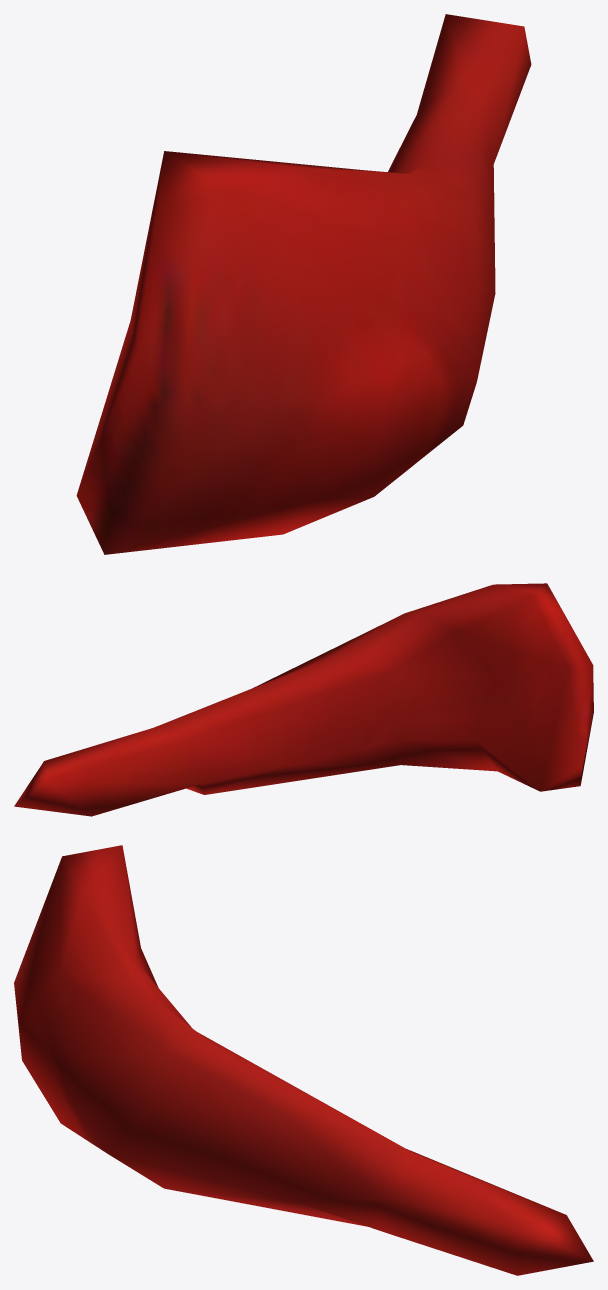
Rendered from Orbital_Muscle_05.glb.
3 views of the same model, one above another, from view 1: azimuth 30°, elevation 25°; view 2: azimuth 150°, elevation 25°; view 3: azimuth 270°, elevation 25° (orthographic). The views are drawn at different scales.
Visible parts, largest first — view 1: Orbital_Muscle_05; view 2: Orbital_Muscle_05; view 3: Orbital_Muscle_05.
Part boxes in pixels (x1,y1,x2,y2): Orbital_Muscle_05: (76, 14, 531, 554); Orbital_Muscle_05: (14, 583, 593, 816); Orbital_Muscle_05: (14, 845, 593, 1275).
Size of the model in its own units: 0.0423 by 0.0205 by 0.0428.
Materials: 1 (1 with a texture image).
